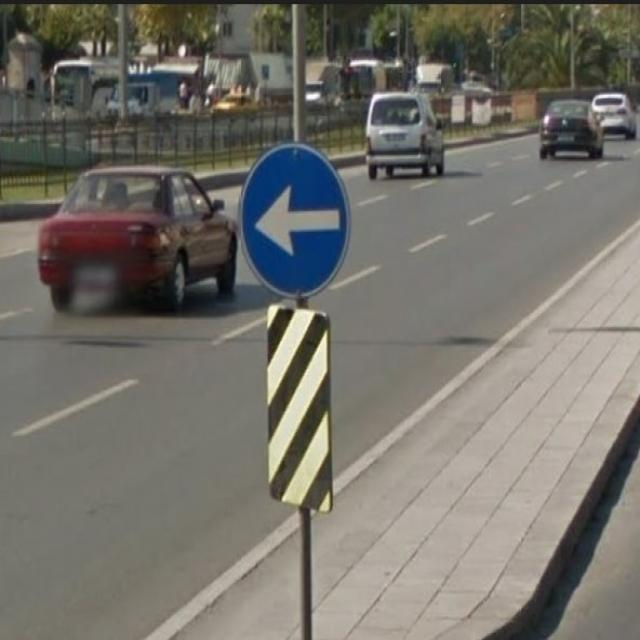Turn Left: (242, 147, 350, 298)
